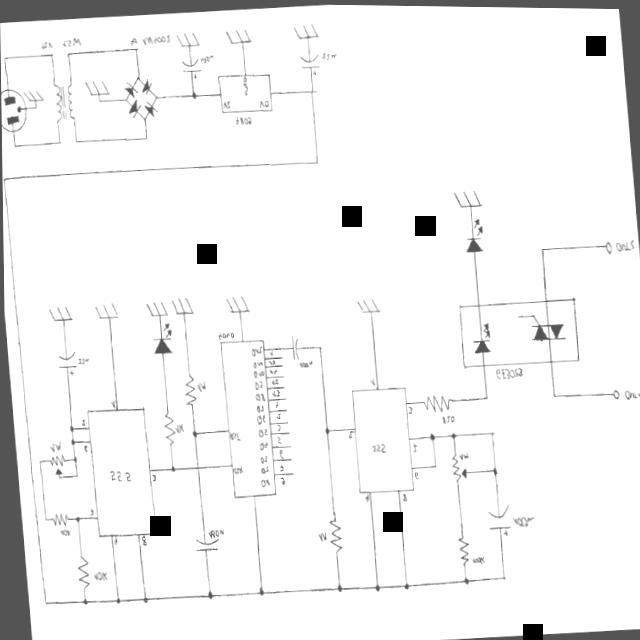capacitor: (483, 501, 509, 535), (55, 348, 76, 376), (298, 50, 320, 75), (179, 56, 201, 79), (190, 534, 218, 551), (288, 333, 298, 358)
crossover: (192, 463, 199, 469)
diode: (148, 320, 172, 354), (461, 215, 483, 252), (141, 97, 158, 118), (124, 96, 140, 118), (122, 78, 136, 98), (139, 76, 152, 94)
ground: (451, 184, 481, 207), (222, 292, 248, 313), (223, 25, 251, 44), (291, 20, 318, 39), (92, 300, 117, 319), (168, 294, 191, 314), (354, 294, 378, 313), (46, 305, 71, 323), (83, 78, 108, 96), (174, 29, 199, 47), (144, 299, 167, 316), (21, 87, 43, 101)
junction: (425, 430, 433, 439), (333, 581, 340, 591), (255, 584, 262, 594), (371, 581, 378, 590), (400, 580, 407, 589), (78, 596, 85, 605), (203, 589, 210, 598), (138, 594, 145, 603), (460, 575, 467, 583), (189, 90, 196, 98), (167, 464, 174, 472), (480, 392, 487, 400), (189, 428, 196, 436), (112, 595, 118, 604), (322, 424, 328, 433), (537, 243, 543, 251), (72, 136, 78, 144), (549, 389, 555, 397), (67, 437, 73, 445), (307, 86, 313, 94), (66, 423, 72, 431), (72, 514, 78, 521), (448, 430, 454, 437), (498, 572, 504, 579), (141, 133, 147, 140), (10, 141, 16, 148), (63, 50, 70, 56), (490, 465, 495, 473), (152, 92, 158, 98), (134, 74, 140, 80), (47, 51, 53, 57), (315, 342, 320, 349), (55, 138, 60, 145), (1, 53, 6, 60), (40, 598, 45, 605), (487, 428, 492, 434), (313, 157, 317, 164), (41, 515, 45, 522), (132, 46, 137, 51), (141, 115, 146, 120), (430, 461, 434, 467), (70, 455, 74, 461), (35, 458, 39, 464), (72, 472, 76, 478), (32, 103, 36, 109), (123, 95, 127, 101), (96, 97, 100, 102), (2, 175, 5, 181), (55, 474, 59, 478)
resistor: (419, 390, 451, 412), (325, 513, 341, 553), (447, 450, 466, 481), (72, 554, 88, 588), (180, 372, 195, 406), (159, 410, 174, 444), (44, 452, 65, 474), (454, 532, 468, 562), (49, 511, 67, 525)
terminal: (602, 237, 611, 252), (609, 386, 617, 397)
text: (492, 364, 522, 379), (140, 31, 171, 45), (106, 468, 129, 483), (509, 512, 532, 526), (613, 235, 634, 250), (620, 385, 640, 399), (60, 35, 81, 47), (233, 113, 251, 125), (368, 440, 385, 452), (204, 526, 222, 537), (90, 568, 105, 581), (319, 49, 336, 60), (46, 439, 60, 452), (438, 411, 453, 423), (198, 52, 213, 63), (468, 552, 483, 563), (240, 74, 248, 94), (296, 357, 310, 368), (38, 39, 52, 50), (216, 329, 233, 338), (194, 378, 204, 392), (248, 344, 259, 356), (314, 529, 325, 541), (227, 429, 238, 441), (253, 412, 264, 424), (56, 526, 69, 536), (255, 426, 266, 437), (256, 97, 268, 107), (172, 421, 182, 433), (230, 463, 241, 473), (257, 476, 268, 486), (251, 378, 262, 388), (75, 355, 87, 364), (250, 368, 262, 377), (250, 358, 262, 367), (257, 463, 267, 473), (256, 439, 266, 449), (220, 98, 230, 108), (455, 449, 466, 458), (128, 34, 137, 45), (252, 391, 263, 400), (253, 402, 262, 412), (266, 365, 276, 374), (85, 505, 93, 516), (409, 439, 416, 451), (257, 453, 266, 462), (268, 387, 278, 395), (268, 376, 278, 384), (398, 490, 405, 501), (138, 534, 145, 545), (79, 443, 86, 452), (345, 428, 352, 437), (411, 468, 417, 478), (110, 535, 116, 545), (276, 460, 282, 470), (367, 374, 373, 384), (277, 474, 283, 484), (405, 403, 411, 412), (361, 491, 367, 500), (78, 416, 84, 425), (107, 398, 113, 407), (276, 447, 281, 457), (149, 471, 154, 481), (273, 411, 280, 418), (273, 422, 279, 430), (266, 358, 274, 363), (274, 434, 279, 442), (272, 399, 277, 407), (267, 348, 272, 354)
transformer: (50, 81, 75, 122)
